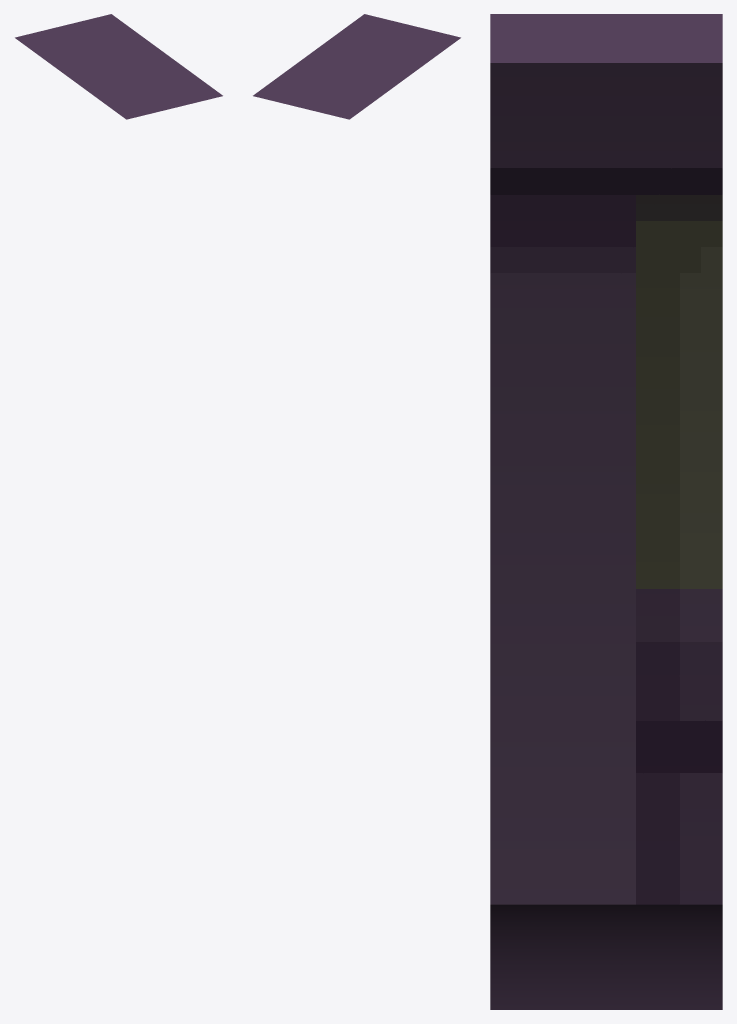
3 renders of one model, left to right at view 1: azimuth 30°, elevation 25°; view 2: azimuth 150°, elevation 25°; view 3: azimuth 270°, elevation 25°, orthographic. The views are drawn at different scales.
Size of the model in its own units: 0.5 by 4.5 by 1.
Materials: 2 (2 with a texture image).
